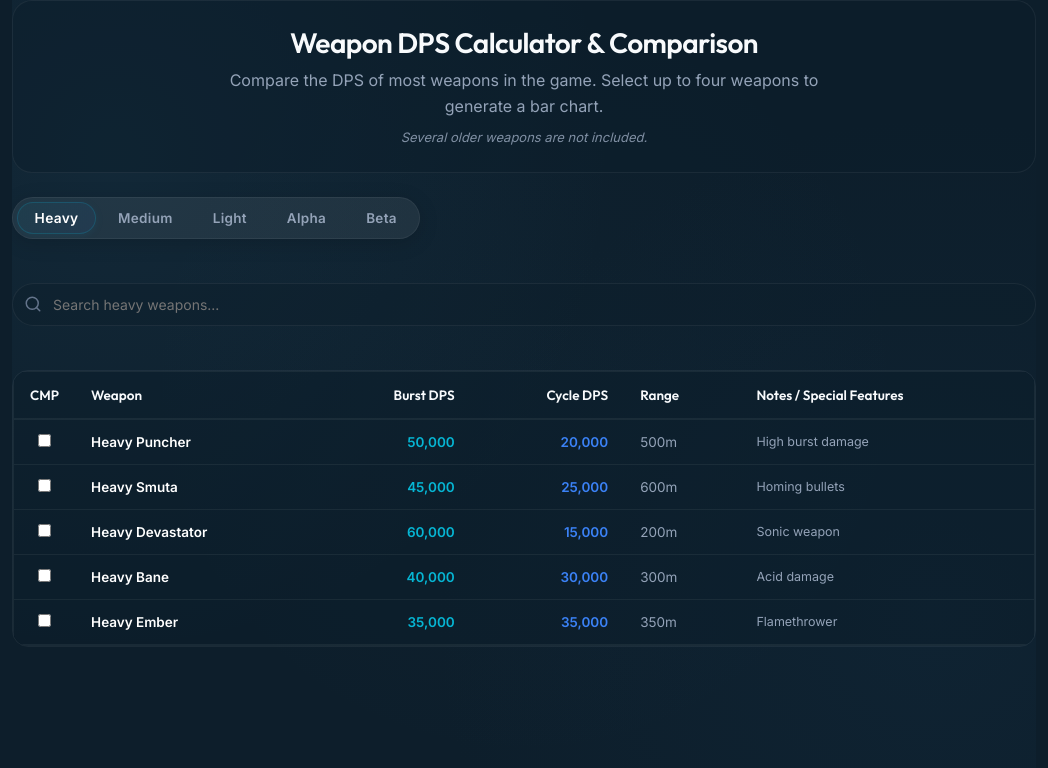
Test: WeaponsDpsTab › changes weapon class when a tab pill is clicked
Check: the text "Heavy Puncher" is shown, box [75,419,318,464]
Click the button "Medium": (145, 218) [100,202,191,234]
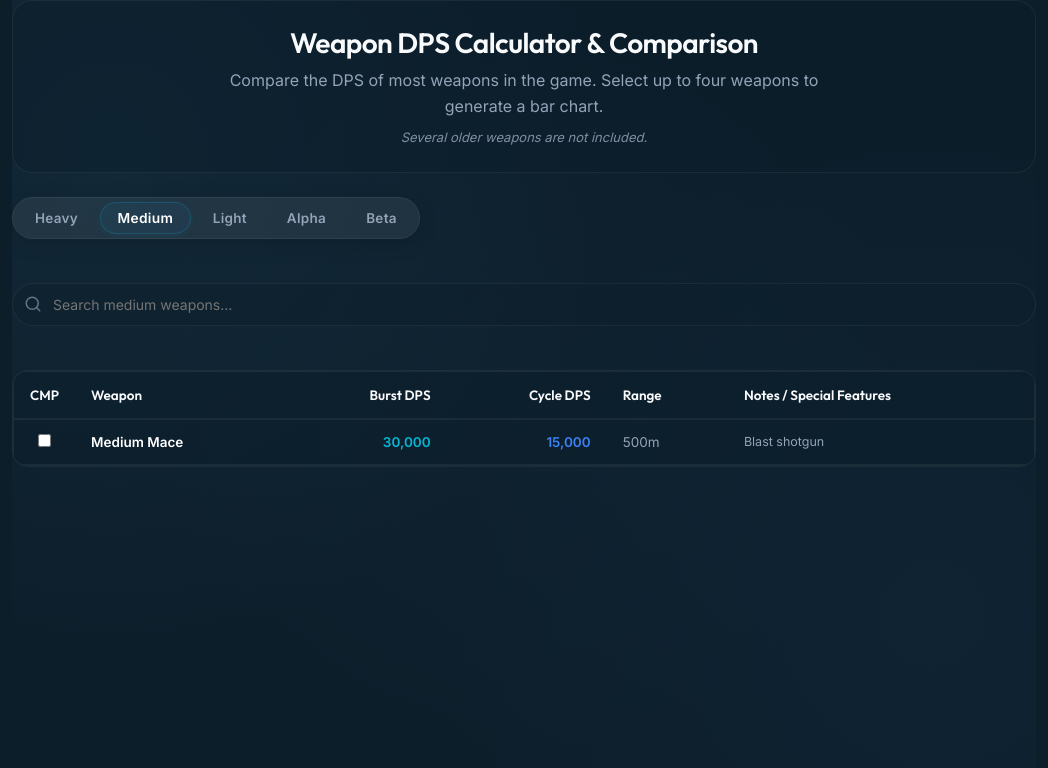
Check: the text "Heavy Puncher" is gone
Check: the text "Medium Mace" is shown, box [75,419,288,464]
